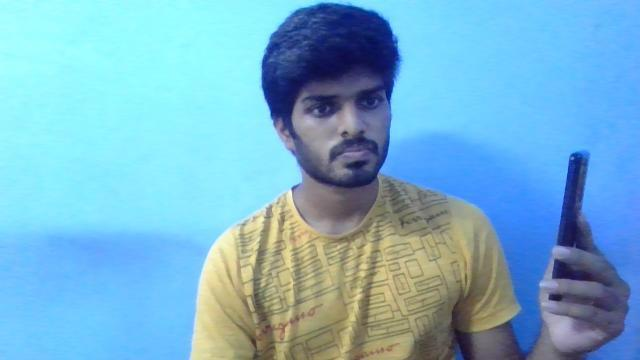PhoneUse: (549, 148, 591, 316)
SafeDriving: (300, 90, 345, 121), (352, 85, 391, 114)
